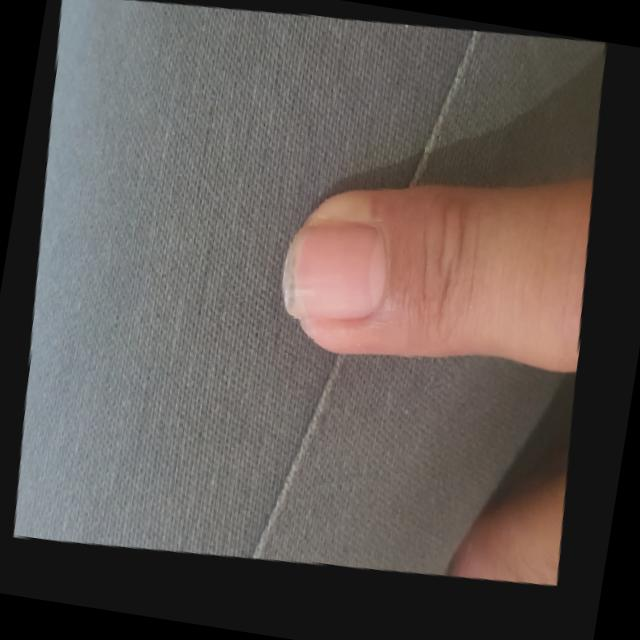Nail: (285, 221, 394, 319)
